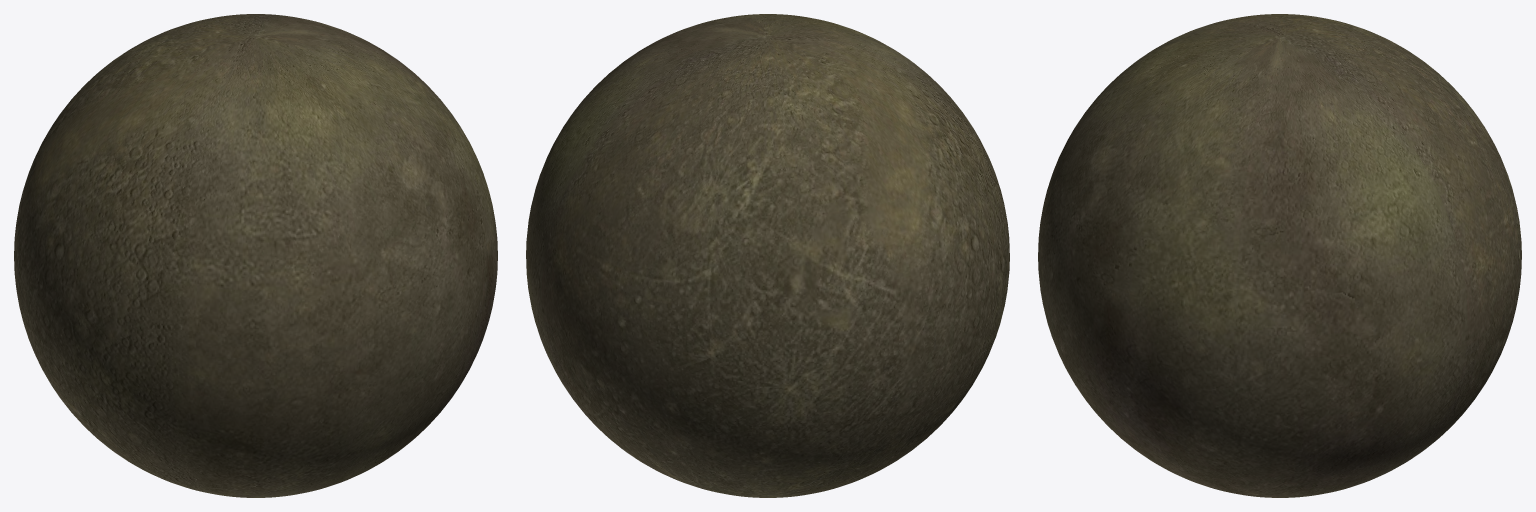
The model's file is mercury1.FBX.
3 renders of one model, left to right at view 1: azimuth 30°, elevation 25°; view 2: azimuth 150°, elevation 25°; view 3: azimuth 270°, elevation 25°, orthographic.
Parts seen in each view (by area): view 1: Atmosphere; view 2: Atmosphere; view 3: Atmosphere.
Part boxes in pixels (<box>): Atmosphere: <box>14,14,497,497</box>; Atmosphere: <box>526,14,1009,497</box>; Atmosphere: <box>1038,14,1521,497</box>.
Bounding box in the file's own units: 148 × 148 × 148.
Materials: 1 (1 with a texture image).
